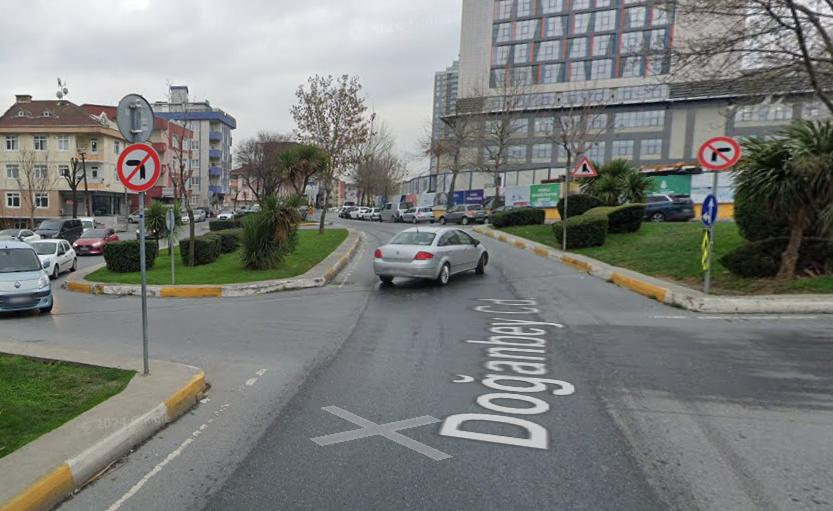leftturnsareforbidden: (120, 146, 158, 191)
rightturnsareforbidden: (702, 139, 741, 171)
